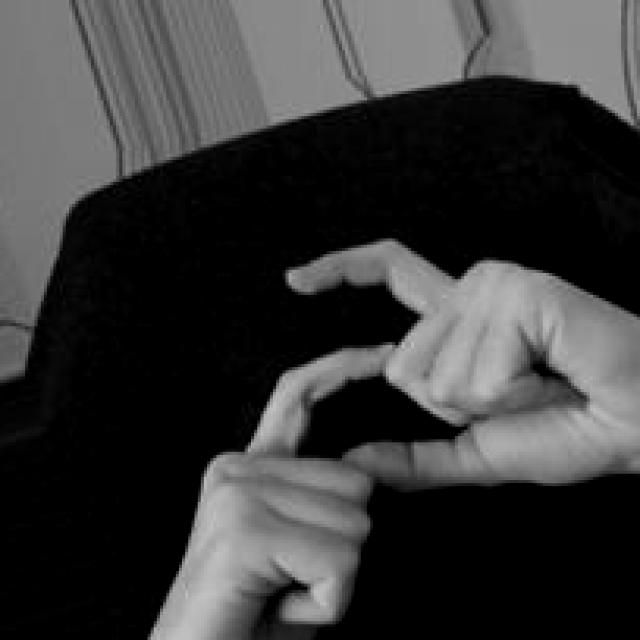G: (138, 229, 640, 640)
